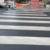zebra: (1, 9, 50, 45)
